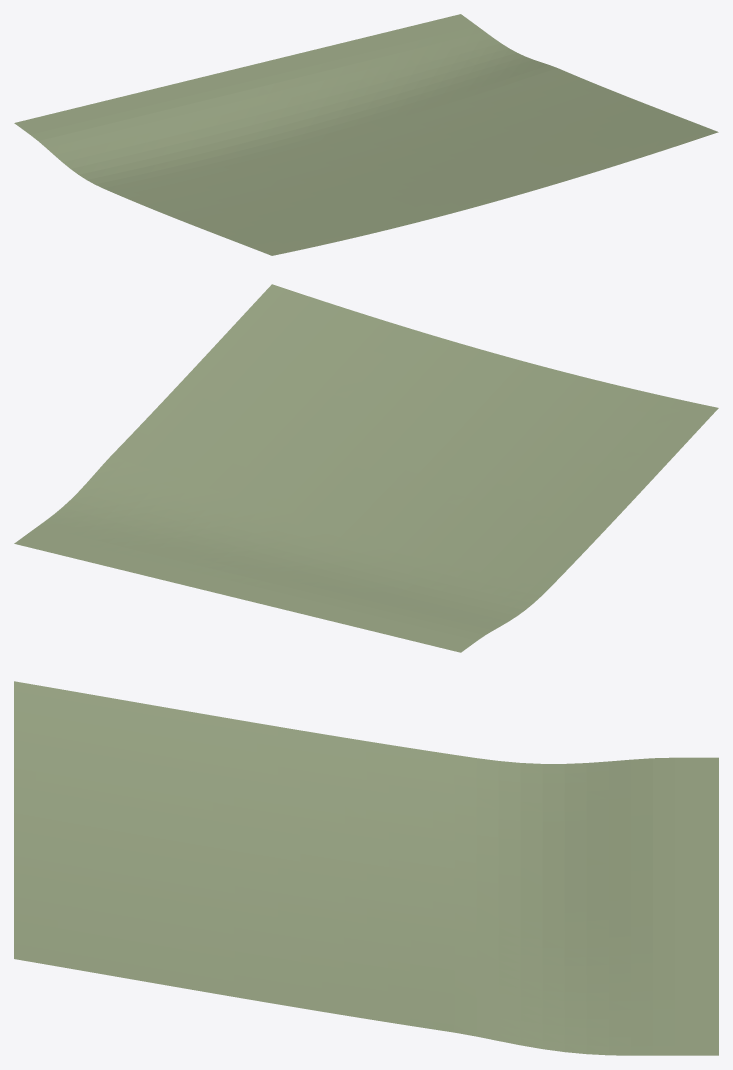
Rendered from valley-13-13.glb.
The picture shows the model from 3 angles, top to bottom: view 1: azimuth 30°, elevation 25°; view 2: azimuth 150°, elevation 25°; view 3: azimuth 270°, elevation 25°; orthographic projection. The views are drawn at different scales.
Parts seen in each view (by area): view 1: valley-13-13; view 2: valley-13-13; view 3: valley-13-13.
Boxes of the visible parts, x1,y1,x2,y2 form: valley-13-13: (14,14,718,255); valley-13-13: (14,284,718,652); valley-13-13: (14,681,718,1055).
Bounding box in the file's own units: 256 × 41.93 × 256.
